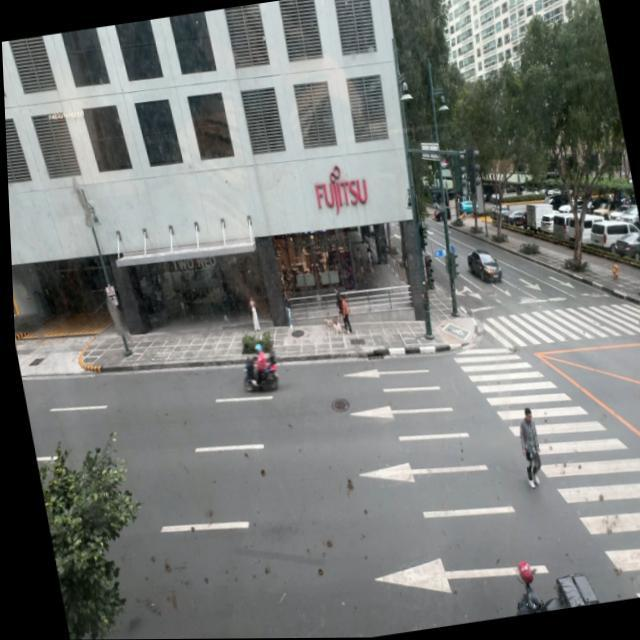jaywalking: (515, 406, 547, 488)
